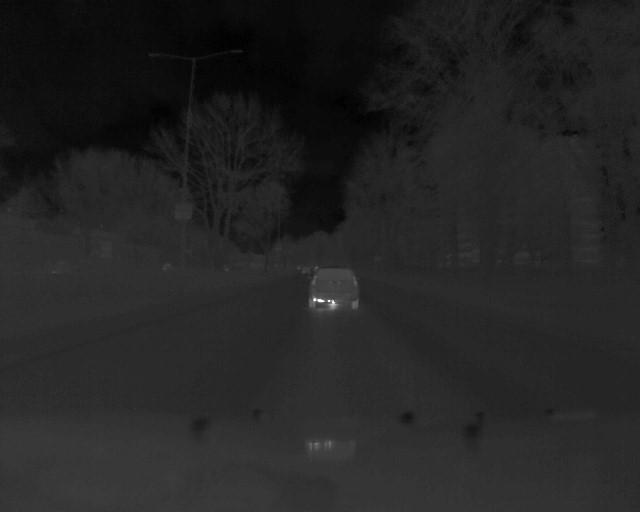car: (303, 262, 366, 313)
